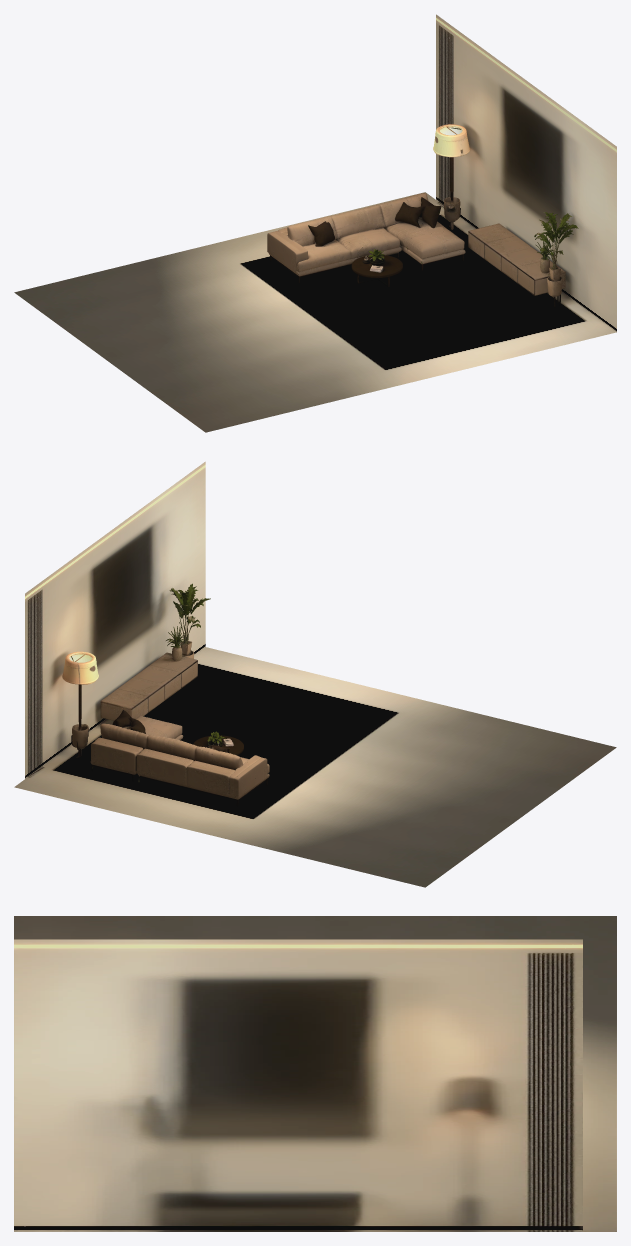
The model's file is living-baked.glb.
The picture shows the model from 3 angles, top to bottom: view 1: azimuth 30°, elevation 25°; view 2: azimuth 150°, elevation 25°; view 3: azimuth 270°, elevation 25°; orthographic projection. The views are drawn at different scales.
Visible parts, largest first — view 1: BAKED_Living_Floor, BAKED_Living_Wall, MESHY_Living_Room_Chaise_Sofa_Cushions, MESHY_Living_Room_Walnut_Console, MESHY_Living_Room_Floor_Lamp, MESHY_Living_Room_Planters_Foliage, MESHY_Living_Room_Coffee_Table_Plant_Books; view 2: BAKED_Living_Floor, BAKED_Living_Wall, MESHY_Living_Room_Chaise_Sofa_Cushions, MESHY_Living_Room_Walnut_Console, MESHY_Living_Room_Floor_Lamp, MESHY_Living_Room_Planters_Foliage, MESHY_Living_Room_Coffee_Table_Plant_Books; view 3: BAKED_Living_Wall, BAKED_Living_Floor.
Part boxes in pixels (x1,y1,x2,y2): BAKED_Living_Floor: (14, 192, 616, 432); BAKED_Living_Wall: (436, 14, 616, 332); MESHY_Living_Room_Chaise_Sofa_Cushions: (267, 193, 465, 282); MESHY_Living_Room_Walnut_Console: (468, 223, 565, 295); MESHY_Living_Room_Floor_Lamp: (433, 124, 470, 229); MESHY_Living_Room_Planters_Foliage: (534, 212, 578, 307); MESHY_Living_Room_Coffee_Table_Plant_Books: (351, 249, 402, 286); BAKED_Living_Floor: (14, 647, 616, 887); BAKED_Living_Wall: (25, 461, 205, 778); MESHY_Living_Room_Chaise_Sofa_Cushions: (90, 710, 269, 806); MESHY_Living_Room_Walnut_Console: (100, 626, 197, 720); MESHY_Living_Room_Floor_Lamp: (62, 651, 98, 758); MESHY_Living_Room_Planters_Foliage: (169, 583, 210, 658); MESHY_Living_Room_Coffee_Table_Plant_Books: (193, 731, 243, 756); BAKED_Living_Wall: (14, 939, 582, 1231); BAKED_Living_Floor: (14, 916, 616, 1231).
Size of the model in its own units: 8.8 by 3.8 by 7.1.
3 materials, 3 textured.
